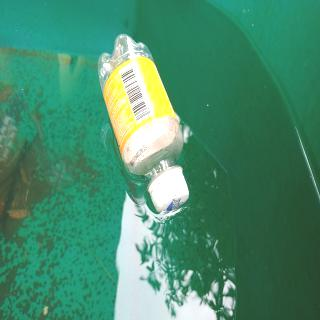bottle: (96, 31, 190, 214)
